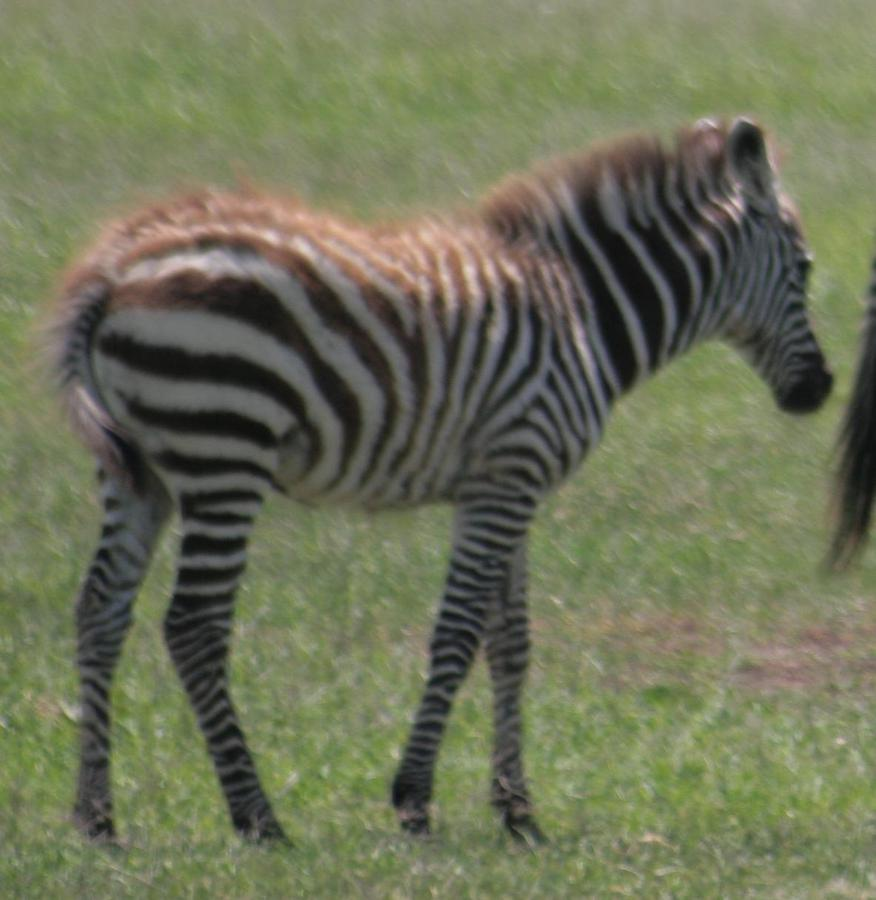zebra_plains: (96, 173, 638, 567)
